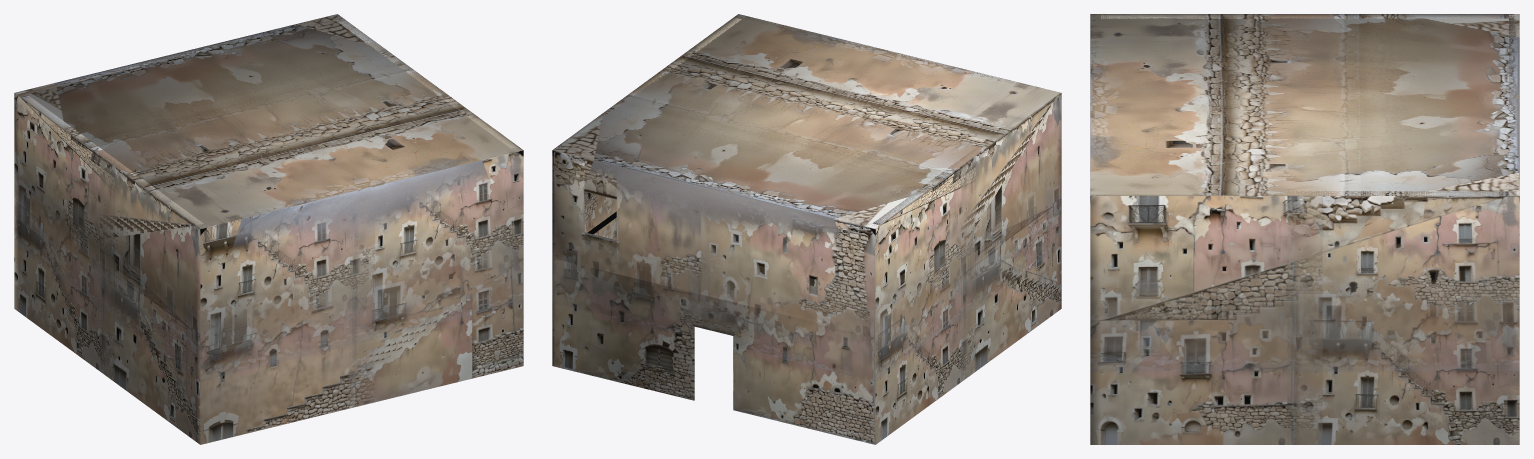
The model's file is skin_town_104_-8.glb.
The picture shows the model from 3 angles, left to right: view 1: azimuth 30°, elevation 25°; view 2: azimuth 150°, elevation 25°; view 3: azimuth 270°, elevation 25°; orthographic projection. The views are drawn at different scales.
Visible parts, largest first — view 1: town_104_-8; view 2: town_104_-8; view 3: town_104_-8.
Part boxes in pixels (x1,y1,x2,y2): town_104_-8: [14, 14, 523, 444]; town_104_-8: [552, 14, 1061, 444]; town_104_-8: [1090, 14, 1519, 444].
Size of the model in its own units: 10.03 by 6.4 by 10.
Materials: 1 (1 with a texture image).
